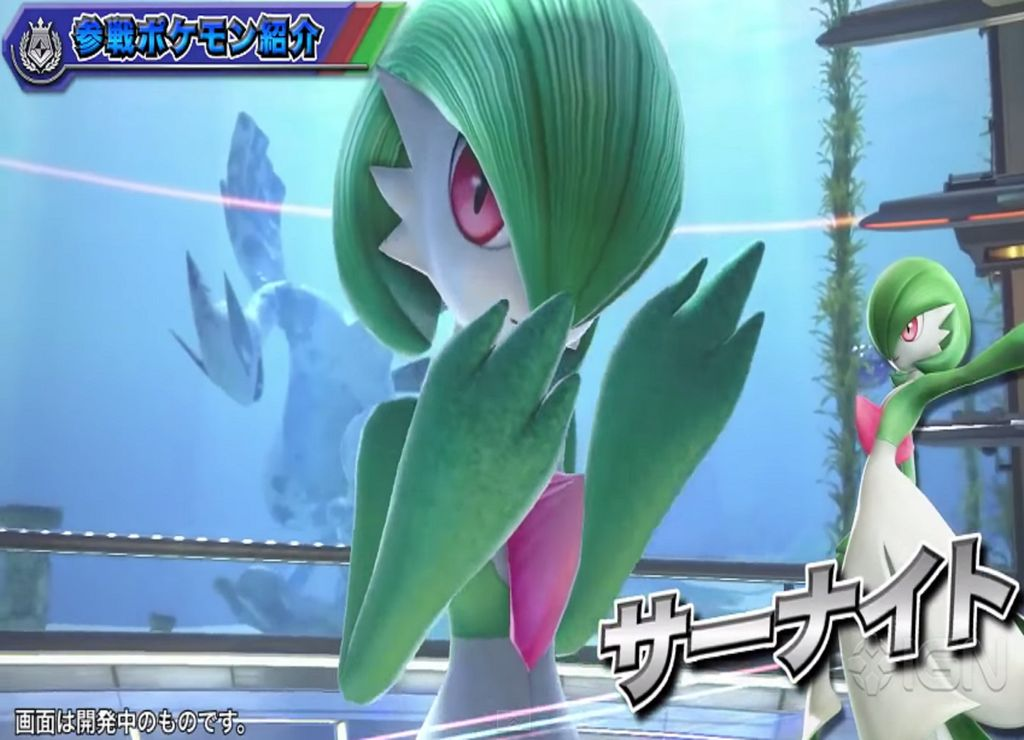gardevoir: (312, 4, 768, 736), (824, 228, 1024, 736)
